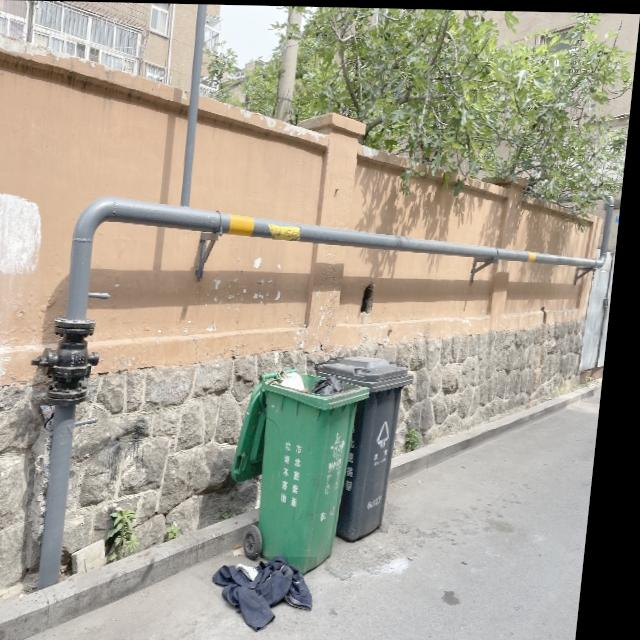garbage: (218, 554, 329, 631)
garbage_bin: (308, 356, 422, 541)
overflow: (233, 366, 379, 575)
